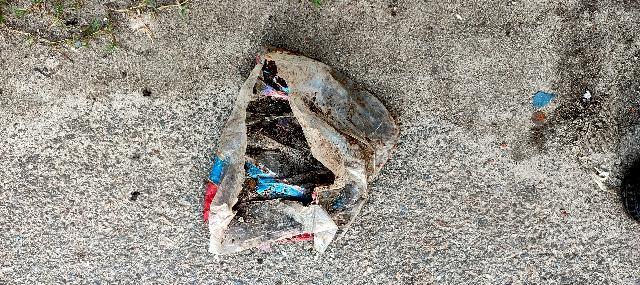polythene: (140, 9, 441, 285)
